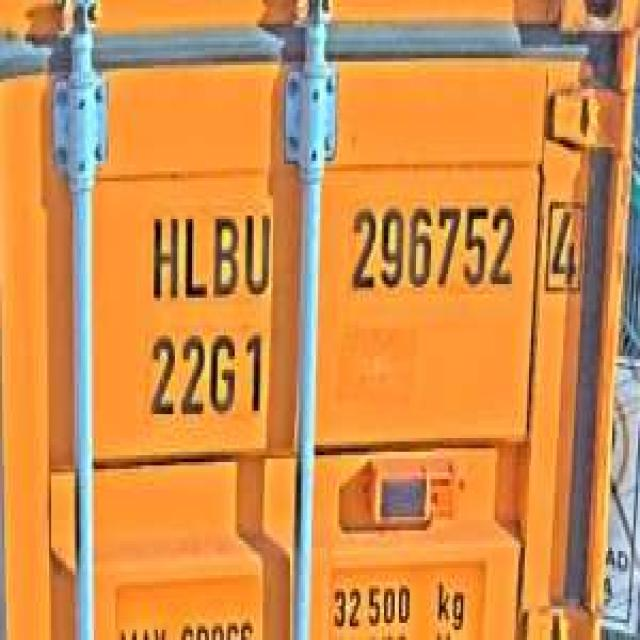dv: (540, 188, 589, 301)
owner: (145, 198, 275, 304)
serial: (344, 192, 518, 304)
size: (143, 325, 271, 431)
